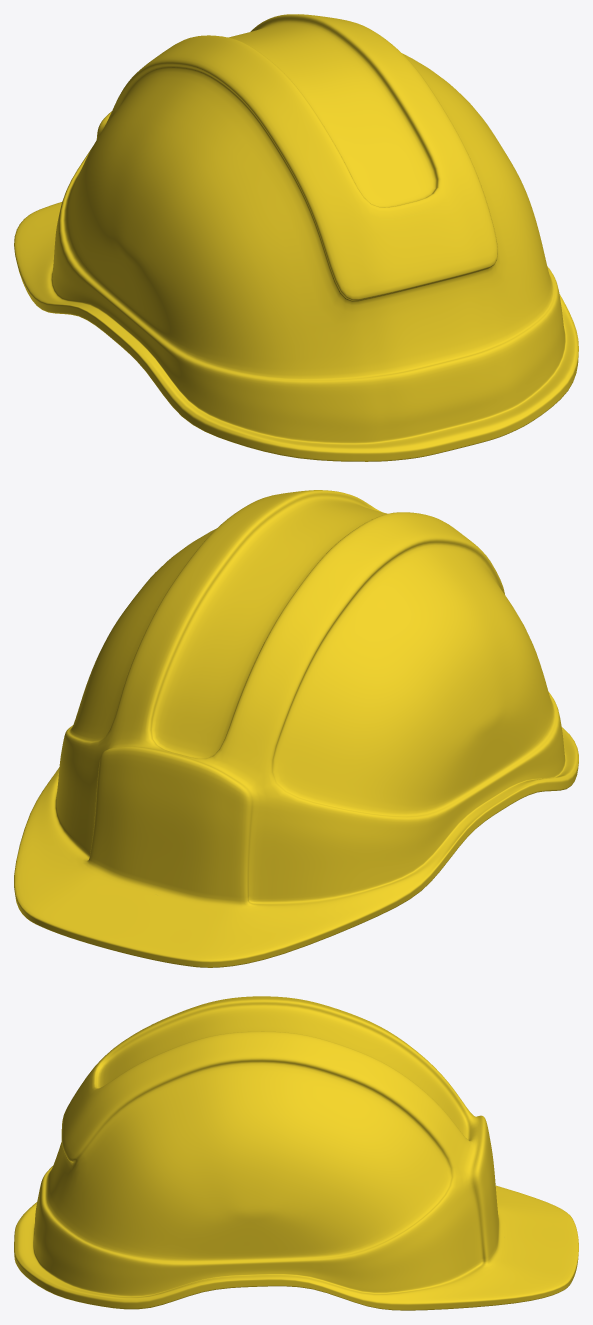
Rendered from caschetto.glb.
The picture shows the model from 3 angles, top to bottom: view 1: azimuth 30°, elevation 25°; view 2: azimuth 150°, elevation 25°; view 3: azimuth 270°, elevation 25°; orthographic projection. The views are drawn at different scales.
Visible parts, largest first — view 1: Caschetto; view 2: Caschetto; view 3: Caschetto.
Boxes of the visible parts, x1=… form: Caschetto: x1=14, y1=14, x2=578, y2=461; Caschetto: x1=14, y1=490, x2=578, y2=967; Caschetto: x1=14, y1=996, x2=578, y2=1310.
Size of the model in its own units: 0.1765 by 0.1271 by 0.2743.
1 material, 1 textured.
